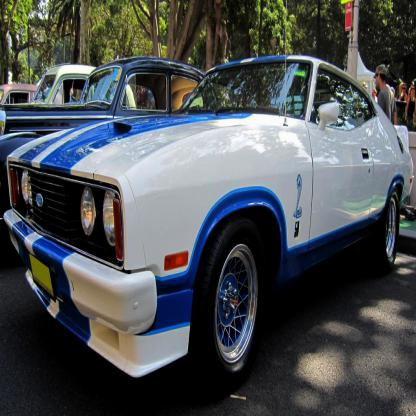Car: (18, 36, 404, 375)
